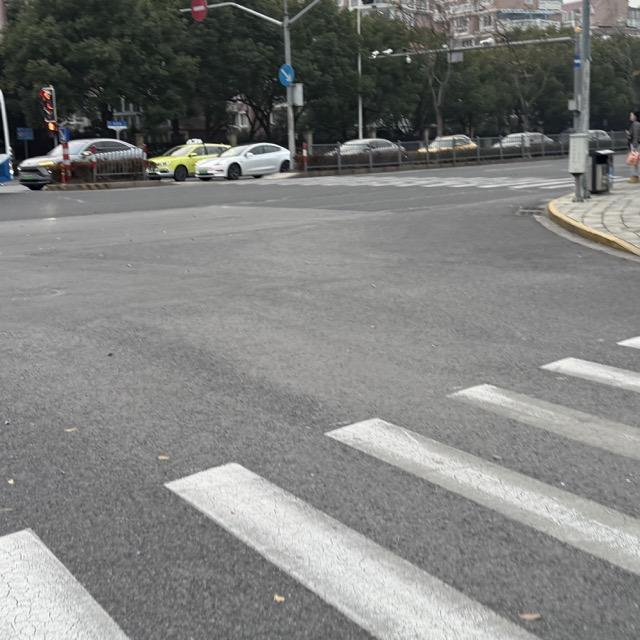curb: (545, 199, 639, 256), (44, 179, 177, 190)
